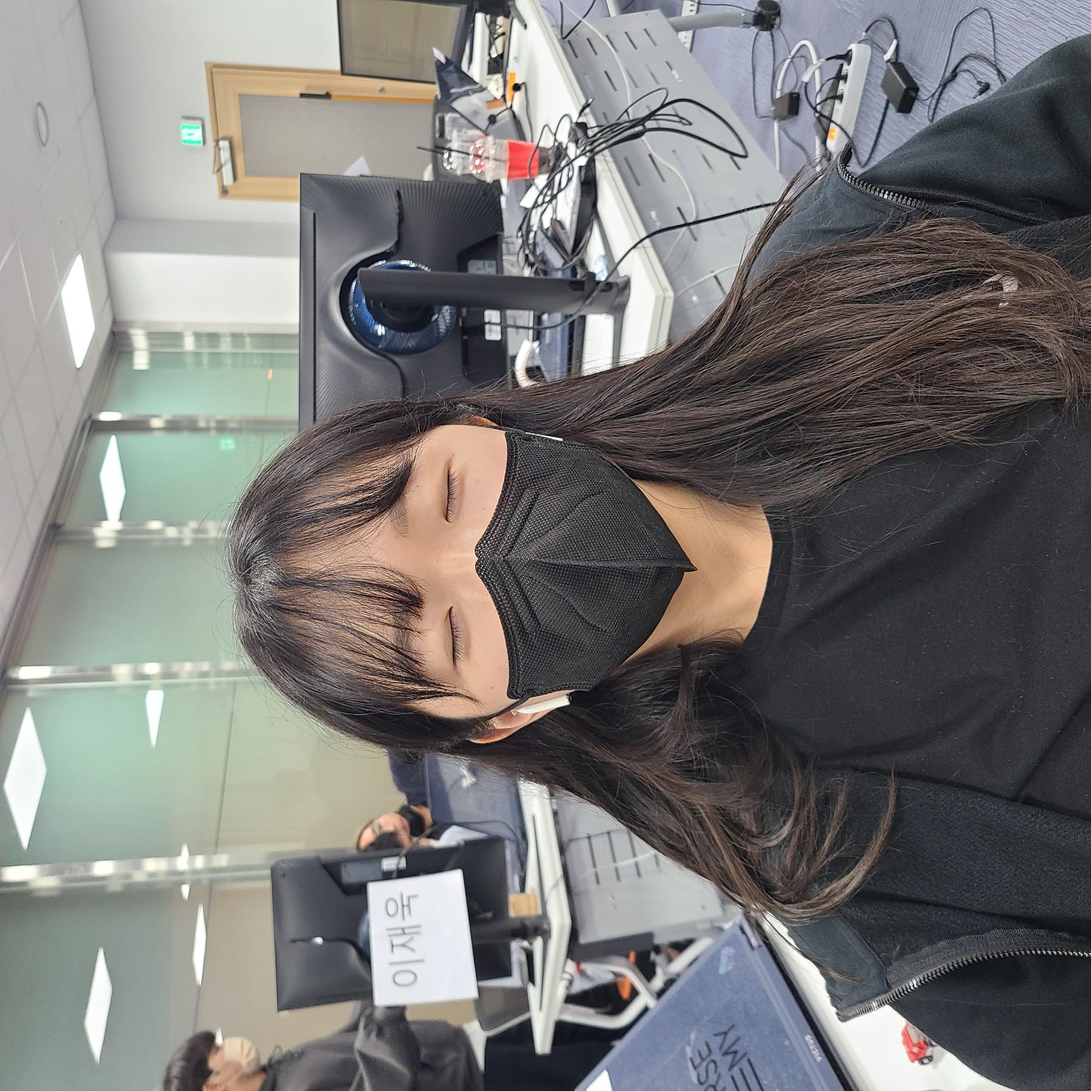earphone: (365, 504, 407, 580)
